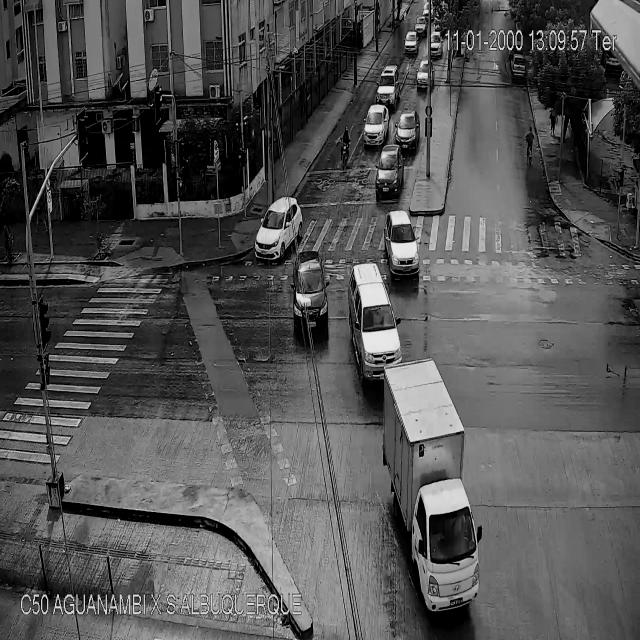Car: (348, 262, 403, 384), (292, 252, 331, 342), (253, 196, 303, 264), (376, 144, 405, 200), (363, 104, 390, 147), (396, 111, 420, 152), (376, 65, 400, 105), (416, 57, 434, 95), (511, 52, 526, 82), (404, 30, 418, 57), (429, 32, 443, 57), (416, 15, 427, 37)
Motorcycle: (341, 125, 350, 172)
Truck: (383, 359, 484, 611)
